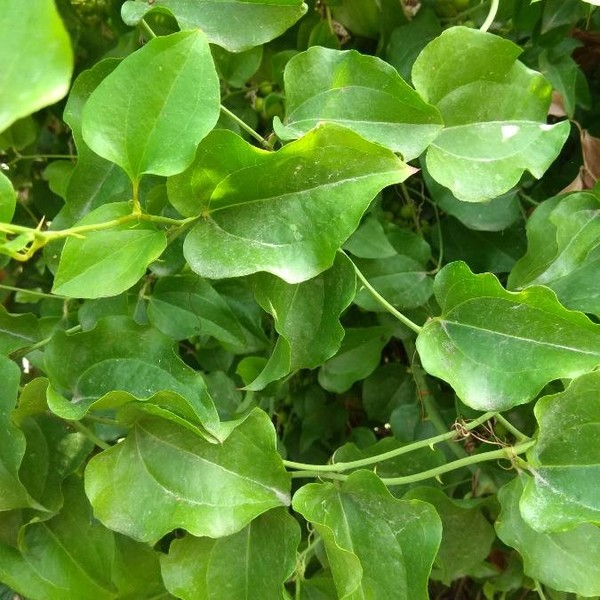obstacle: (23, 34, 547, 596)
